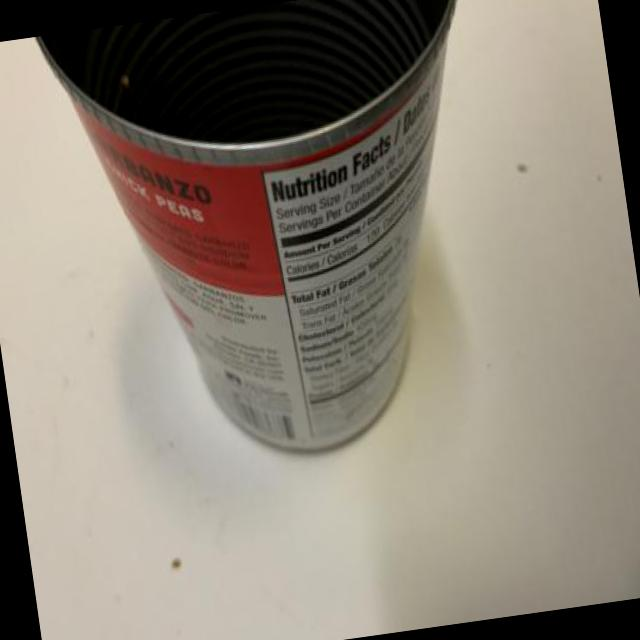metal: (38, 0, 455, 451), (38, 0, 456, 165)
